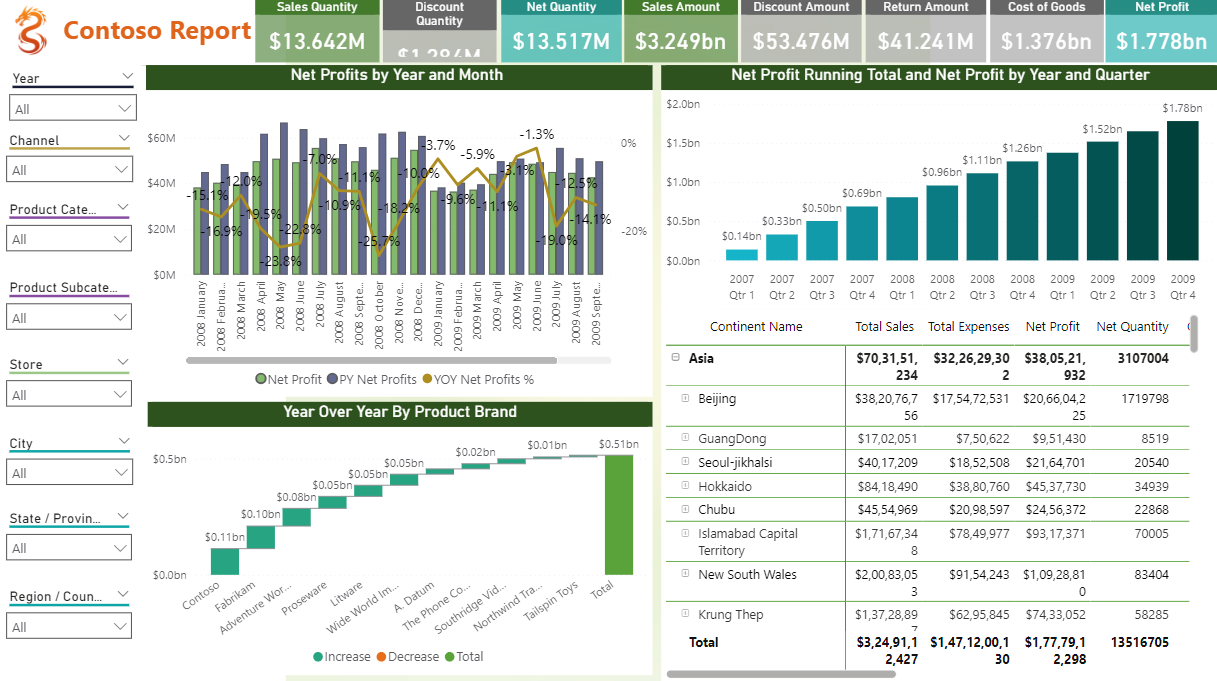

The dashboard page shown, as its layout file describes it:
{"tool":"powerbi","page":{"name":"Page 1","canvas":[1280,720],"ordinal":0},"visuals":[{"type":"pivotTable","fields":{"Values":["DAX Measures.Total Sales","DAX Measures.Total Expenses","DAX Measures.Net Profit","DAX Measures.Net Quantity","DAX Measures.Order Count","DAX Measures.Average Order Amount","DAX Measures.YOY Net Profits","DAX Measures.YOY Net Profits %"],"Rows":["Geography.Geography Heirarchy.Continent Name","Geography.Geography Heirarchy.State Province Name","Geography.Geography Heirarchy.City Name","Geography.Geography Heirarchy.Region Country Name","Store.Store Name"]},"box":[695,328.8,567.5,391.2],"z":0},{"type":"lineClusteredColumnComboChart","title":"Net Profits by Year and Month","fields":{"Y":["DAX Measures.Net Profit","DAX Measures.PY Net Profits"],"Y2":["DAX Measures.YOY Net Profits %"],"Category":["Calender.Date.Variation.Date Hierarchy.Year","Calender.Date.Variation.Date Hierarchy.Month"]},"box":[151.2,72.5,535,347.5],"z":1000},{"type":"clusteredColumnChart","fields":{"Y":["DAX Measures.Net Profit Running Total"],"Category":["Calender.Date.Variation.Date Hierarchy.Year","Calender.Date.Variation.Date Hierarchy.Quarter","Calender.Date.Variation.Date Hierarchy.Month","Calender.Date.Variation.Date Hierarchy.Day"]},"box":[695,72.5,585,256.2],"z":2000},{"type":"waterfallChart","title":" Year Over Year By Product Brand","fields":{"Category":["Product Master.Brand Name"],"Y":["DAX Measures.YOY Net Profits"]},"box":[157.5,425,528.8,286.2],"z":3000},{"type":"textbox","box":[63.8,11.2,228.8,46.2],"z":4000},{"type":"image","box":[0,0,72.9,72.9],"z":5000},{"type":"cardVisual","title":"Net Profit","fields":{"Data":["DAX Measures.Net Profit"]},"box":[1161.2,3.8,118.8,66.2],"z":6000},{"type":"cardVisual","title":"Sales Amount","fields":{"Data":["DAX Measures.Total Sales"]},"box":[657.5,2.5,118.8,66.2],"z":7000},{"type":"cardVisual","title":"Discount Amount","fields":{"Data":["DAX Measures.Discount Amount"]},"box":[780,2.5,126.2,66.2],"z":8000},{"type":"cardVisual","title":"Return Amount","fields":{"Data":["DAX Measures.Return Amount"]},"box":[910,3.8,126.2,66.2],"z":9000},{"type":"cardVisual","title":"Cost of Goods","fields":{"Data":["DAX Measures.Total Cost"]},"box":[1040,3.8,118.8,66.2],"z":10000},{"type":"cardVisual","title":"Sales Quantity","fields":{"Data":["DAX Measures.Sales Quantity"]},"box":[271.2,2.5,130,66.2],"z":11000},{"type":"cardVisual","title":"Net Quantity","fields":{"Data":["DAX Measures.Net Quantity"]},"box":[527.5,2.5,126.2,66.2],"z":12000},{"type":"cardVisual","title":"Discount Quantity","fields":{"Data":["DAX Measures.Discount Quantity"]},"box":[405,2.5,118.8,66.2],"z":13000},{"type":"slicer","fields":{"Values":["Product Master.Product Subcategory Name"]},"box":[0,291.2,151.2,72.5],"z":14000},{"type":"slicer","fields":{"Values":["Product Master.Product Category Name"]},"box":[0,210,151.2,72.5],"z":15000},{"type":"slicer","fields":{"Values":["Channel.Channel Name"]},"box":[0,137.5,152.5,72.5],"z":16000},{"type":"slicer","fields":{"Values":["Geography.Region Country Name"]},"box":[0,615,151.2,72.5],"z":17000},{"type":"slicer","fields":{"Values":["Geography.State Province Name"]},"box":[0,533.8,151.2,72.5],"z":18000},{"type":"slicer","fields":{"Values":["Geography.City Name"]},"box":[0,453.8,152.5,72.5],"z":19000},{"type":"slicer","fields":{"Values":["Store.Store Name"]},"box":[0,372.5,151.2,72.5],"z":20000},{"type":"slicer","fields":{"Values":["Calender.Date.Variation.Date Hierarchy.Year"]},"box":[2.9,72.9,152.9,72.9],"z":21000}]}

Visuals, with their boxes in screenshot pixels (x1, y1, x2, y2), scaled from the page's 1280x720 canvas onto the 1217x681 screenshot:
pivotTable - DAX Measures.Total Sales x DAX Measures.Total Expenses: BBox(661, 311, 1200, 680)
"Net Profits by Year and Month" lineClusteredColumnComboChart: BBox(144, 69, 652, 397)
clusteredColumnChart - DAX Measures.Net Profit Running Total x Calender.Date.Variation.Date Hierarchy.Year: BBox(661, 69, 1216, 311)
" Year Over Year By Product Brand" waterfallChart: BBox(150, 402, 653, 673)
textbox: BBox(61, 11, 278, 54)
image: BBox(0, 0, 69, 69)
"Net Profit" cardVisual: BBox(1104, 4, 1216, 66)
"Sales Amount" cardVisual: BBox(625, 2, 738, 65)
"Discount Amount" cardVisual: BBox(742, 2, 862, 65)
"Return Amount" cardVisual: BBox(865, 4, 985, 66)
"Cost of Goods" cardVisual: BBox(989, 4, 1102, 66)
"Sales Quantity" cardVisual: BBox(258, 2, 381, 65)
"Net Quantity" cardVisual: BBox(502, 2, 622, 65)
"Discount Quantity" cardVisual: BBox(385, 2, 498, 65)
slicer - Product Master.Product Subcategory Name: BBox(0, 275, 144, 344)
slicer - Product Master.Product Category Name: BBox(0, 199, 144, 267)
slicer - Channel.Channel Name: BBox(0, 130, 145, 199)
slicer - Geography.Region Country Name: BBox(0, 582, 144, 650)
slicer - Geography.State Province Name: BBox(0, 505, 144, 573)
slicer - Geography.City Name: BBox(0, 429, 145, 498)
slicer - Store.Store Name: BBox(0, 352, 144, 421)
slicer - Calender.Date.Variation.Date Hierarchy.Year: BBox(3, 69, 148, 138)
